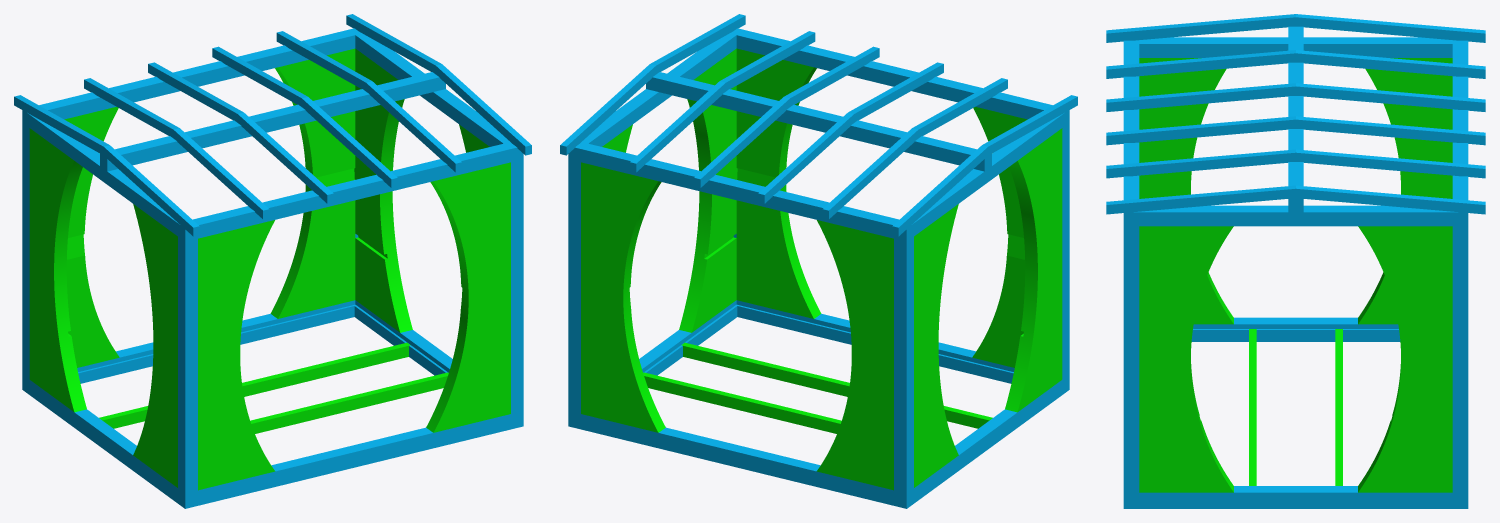
File: Breakhut-V3-moved.glb
3 views of the same model, side by side, from view 1: azimuth 30°, elevation 25°; view 2: azimuth 150°, elevation 25°; view 3: azimuth 270°, elevation 25° (orthographic). The views are drawn at different scales.
Visible parts, largest first — view 1: CLT_14, CLT_6, CLT_2, CLT_8, CLT_9, 土台_0, 梁_0, CLT_15, 棟木_0, CLT_0, CLT_12, 梁_2 (+28 smaller); view 2: CLT_2, CLT_1, CLT_14, CLT_13, CLT_11, 土台_1, 梁_2, CLT_7, 棟木_0, CLT_4, CLT_10, 梁_0 (+28 smaller); view 3: CLT_0, CLT_4, CLT_3, CLT_5, 梁_1, 土台_2, 梁_3, CLT_10, CLT_12, 柱_1, 柱_2, 土台_3 (+19 smaller).
Boxes of the visible parts, x1=… form: CLT_14: x1=426, y1=288, x2=510, y2=432; CLT_6: x1=430, y1=162, x2=510, y2=298; CLT_2: x1=270, y1=174, x2=355, y2=318; CLT_8: x1=198, y1=220, x2=274, y2=364; CLT_9: x1=198, y1=354, x2=275, y2=490; 土台_0: x1=176, y1=414, x2=523, y2=508; 梁_0: x1=178, y1=142, x2=521, y2=238; CLT_15: x1=29, y1=254, x2=86, y2=412; 棟木_0: x1=100, y1=72, x2=445, y2=171; CLT_0: x1=355, y1=174, x2=412, y2=332; CLT_12: x1=29, y1=128, x2=82, y2=271; 梁_2: x1=22, y1=28, x2=361, y2=120; CLT_2: x1=581, y1=288, x2=665, y2=432; CLT_1: x1=581, y1=162, x2=661, y2=298; CLT_14: x1=736, y1=174, x2=821, y2=318; CLT_13: x1=817, y1=220, x2=893, y2=364; CLT_11: x1=816, y1=354, x2=893, y2=490; 土台_1: x1=568, y1=414, x2=915, y2=508; 梁_2: x1=570, y1=142, x2=913, y2=238; CLT_7: x1=1005, y1=254, x2=1062, y2=412; 棟木_0: x1=646, y1=72, x2=991, y2=171; CLT_4: x1=679, y1=174, x2=736, y2=332; CLT_10: x1=1009, y1=128, x2=1062, y2=271; 梁_0: x1=730, y1=28, x2=1069, y2=120; CLT_0: x1=1358, y1=359, x2=1452, y2=492; CLT_4: x1=1139, y1=359, x2=1233, y2=492; CLT_3: x1=1358, y1=226, x2=1452, y2=359; CLT_5: x1=1139, y1=226, x2=1233, y2=359; 梁_1: x1=1123, y1=205, x2=1468, y2=226; 土台_2: x1=1123, y1=486, x2=1468, y2=508; 梁_3: x1=1139, y1=37, x2=1452, y2=57; CLT_10: x1=1139, y1=58, x2=1226, y2=191; CLT_12: x1=1365, y1=58, x2=1452, y2=191; 柱_1: x1=1452, y1=226, x2=1468, y2=492; 柱_2: x1=1123, y1=226, x2=1139, y2=492; 土台_3: x1=1191, y1=317, x2=1400, y2=341.
Size of the model in its own units: 2.4 by 2.05 by 2.2.
